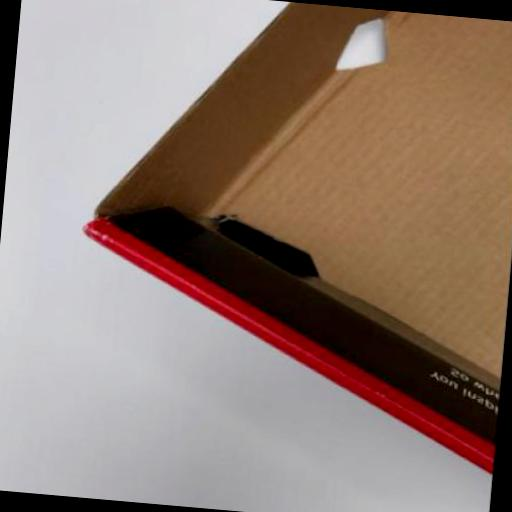cardboard: (63, 0, 512, 473)
